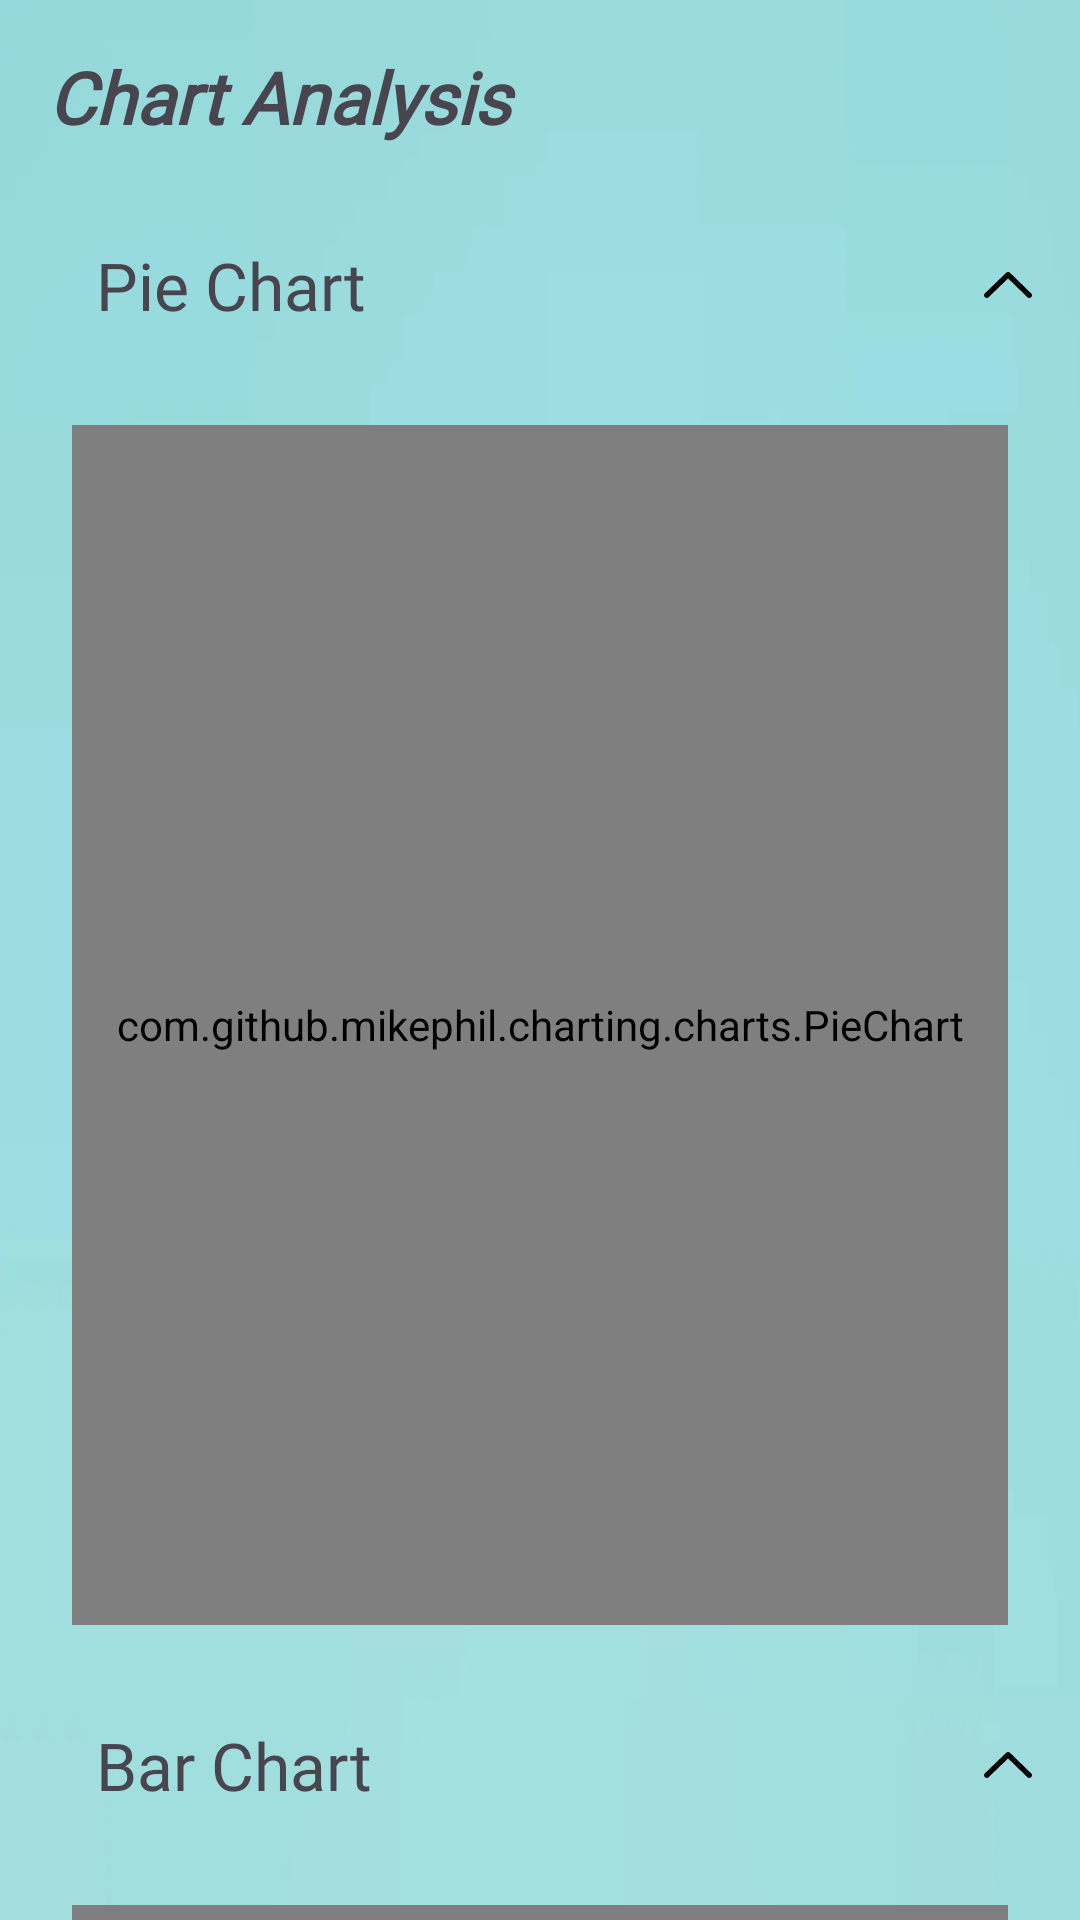

Point at icon controls on the screen. Image size 1080w x 1920h, points as (x=x, y=y).
arrow up: (x=1008, y=285), (x=1008, y=1765)
